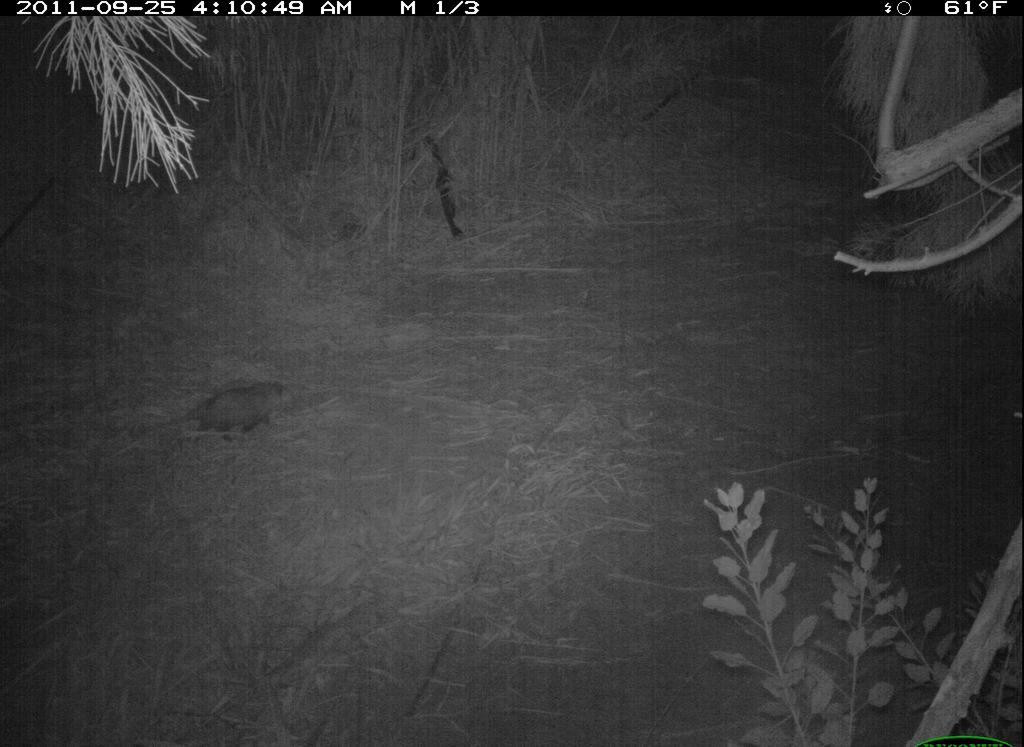opossum: (157, 369, 300, 463)
